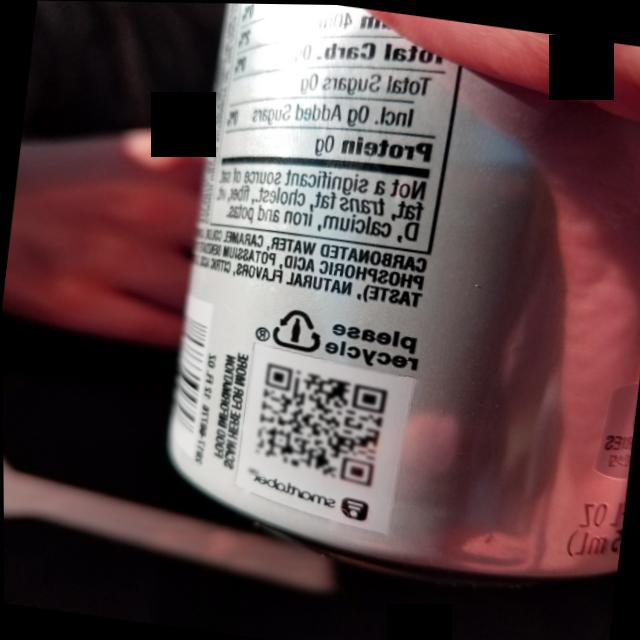QR_CODE: (236, 348, 399, 492)
